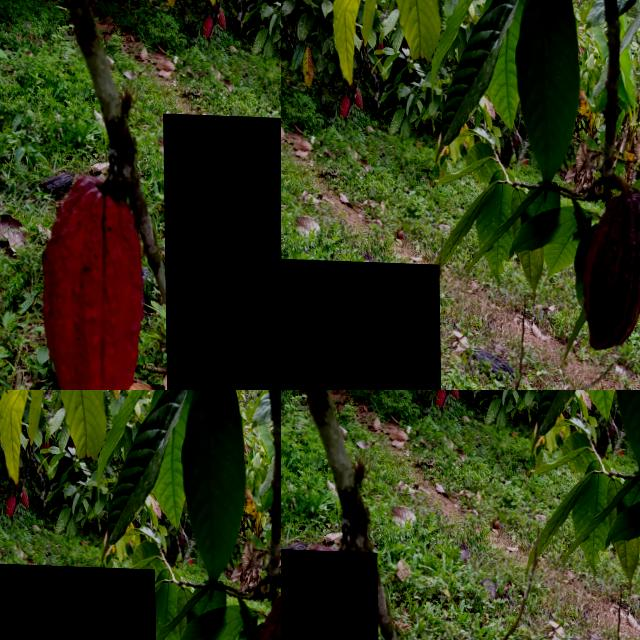Sana: (162, 112, 281, 390), (281, 256, 442, 390), (281, 548, 378, 640)
